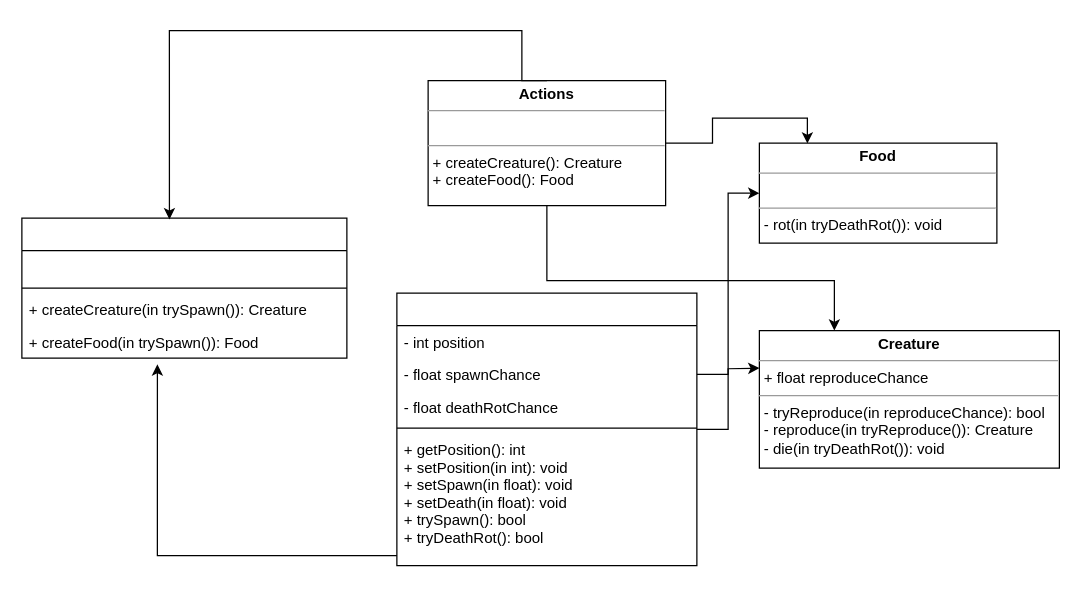
Some shapes in this 1081 by 591 pixel diagram are drawn without their labels. The box of each missing label's shape, as (x1, y1, x2, y2) in pixels:
Object: (396, 292, 697, 566)
World: (21, 217, 347, 358)
